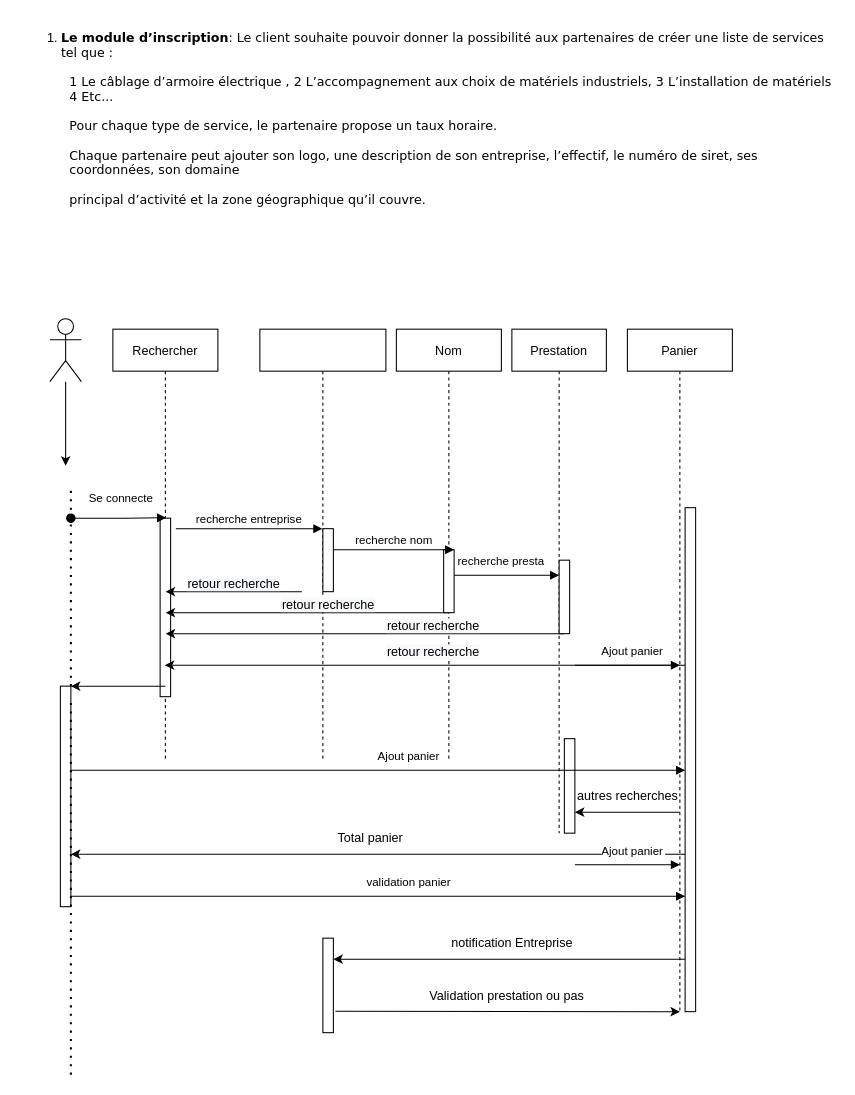
Some shapes in this 855 by 1095 pixel diagram are drawn without their labels. Each missing label, with the box of its shape:
Entreprise: (259, 328, 386, 760)
User: (49, 318, 81, 382)
